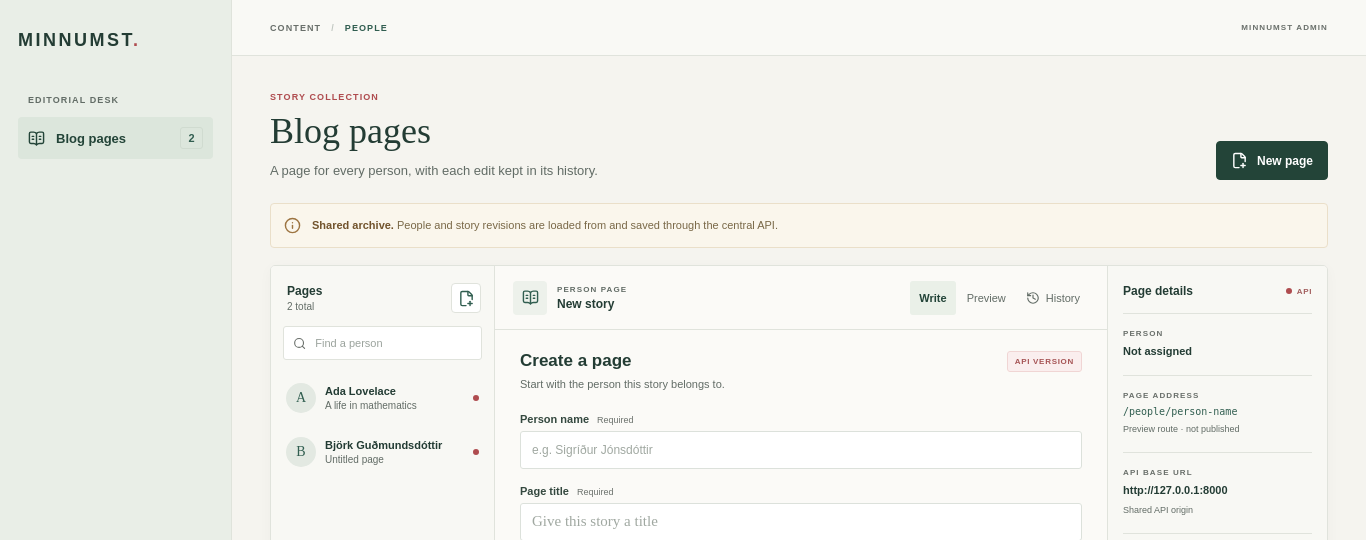
Scenario: blog page editor › ignores history that arrives after another page was selected
The image size is (1366, 540).
Step 1. Click the button "A Ada Lovelace A life in mathematics" → (382, 398), box [278, 372, 487, 423]
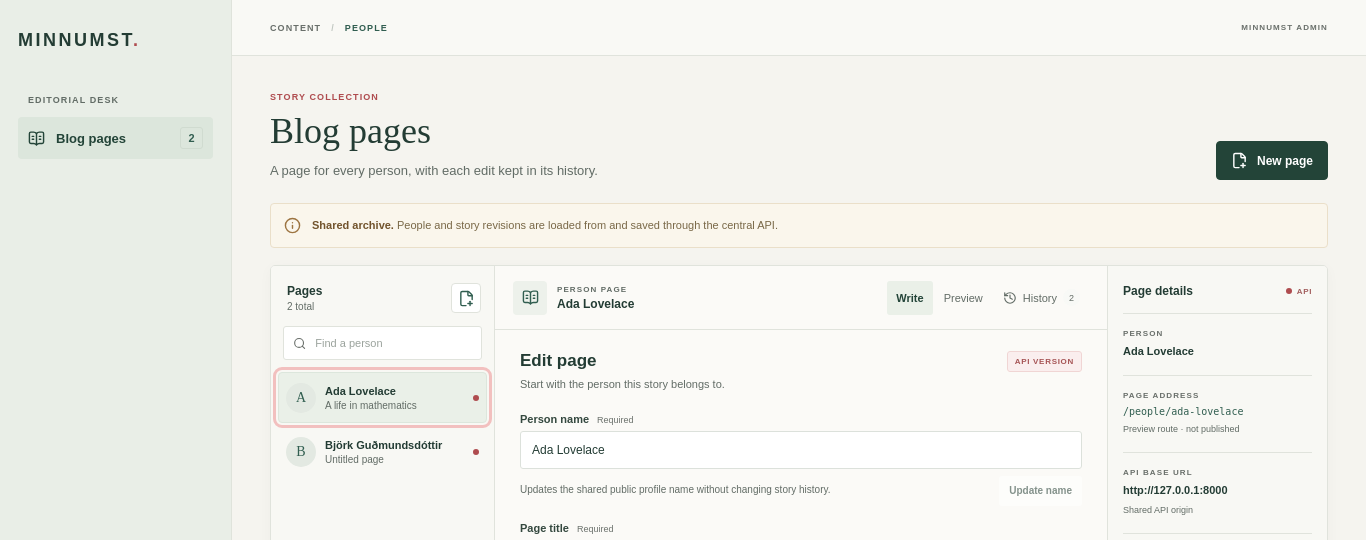
Step 2. Click the button "New page" → (1272, 161), box [1216, 141, 1328, 180]
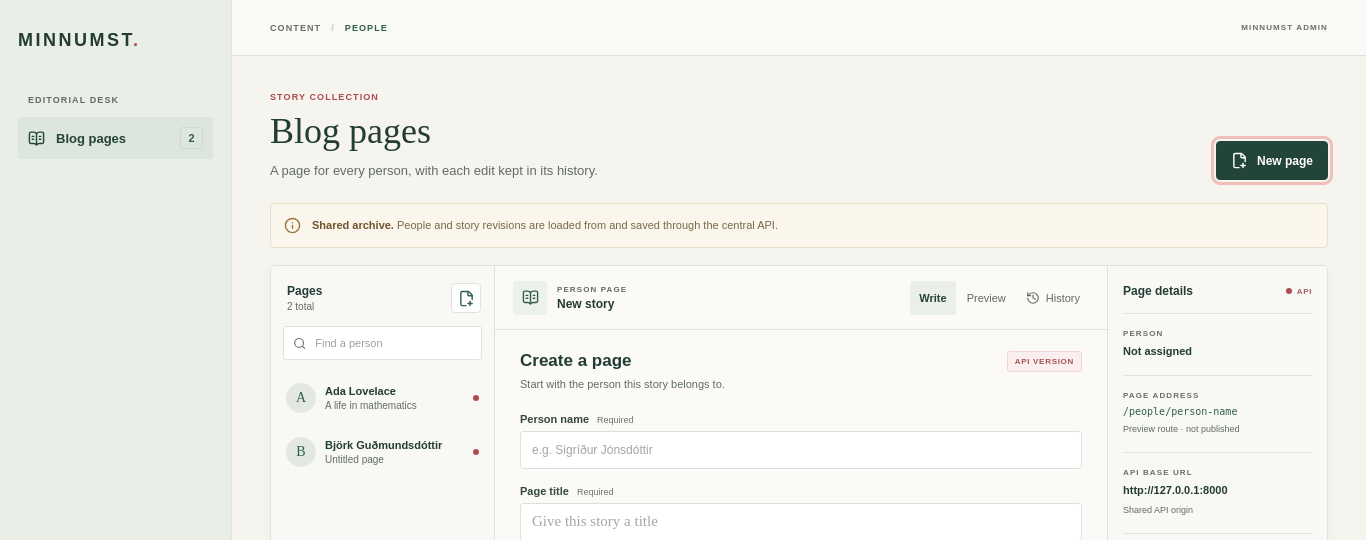
The stale history was not kept, so selecting Ada again reloads it.
Step 3. Click the button "A Ada Lovelace A life in mathematics" → (382, 398), box [278, 372, 487, 423]
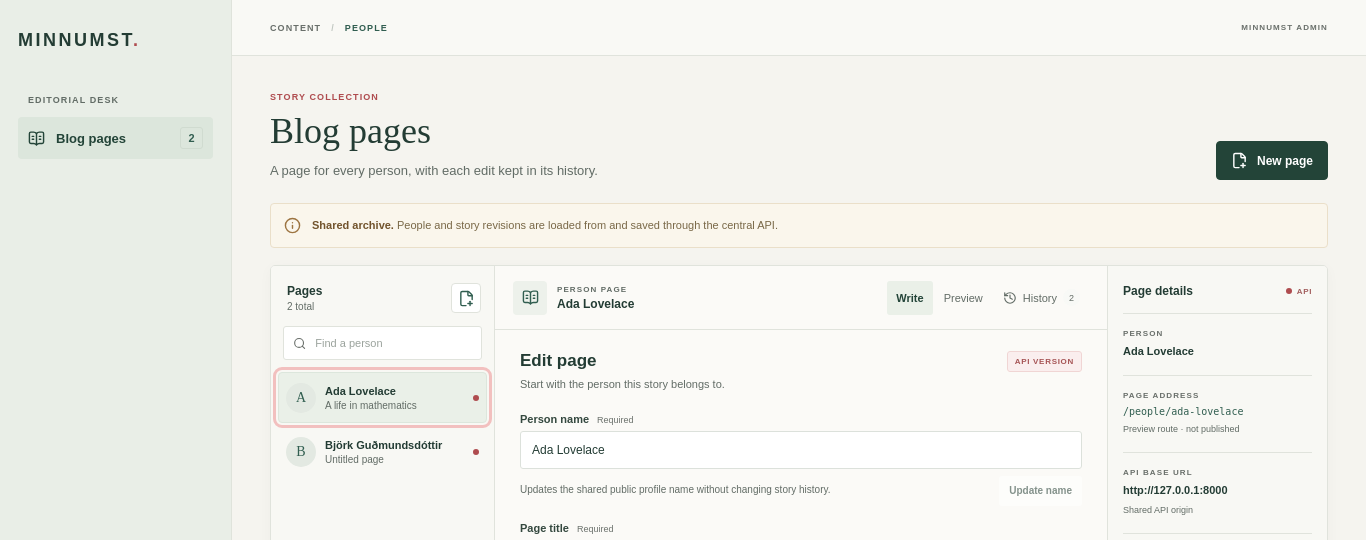
Step 4. Click the button "B Björk Guðmundsdóttir Untitled page" → (382, 452), box [278, 426, 487, 477]
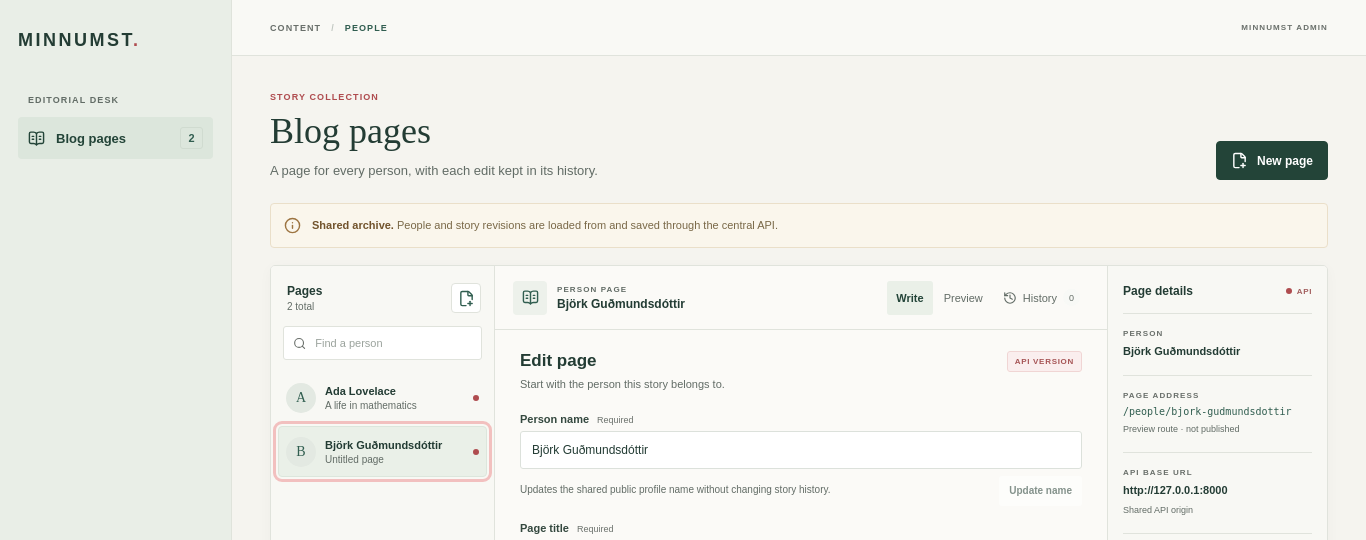
Now the field labelled "Person name Required" holds "Björk Guðmundsdóttir", box [520, 431, 1082, 469]
